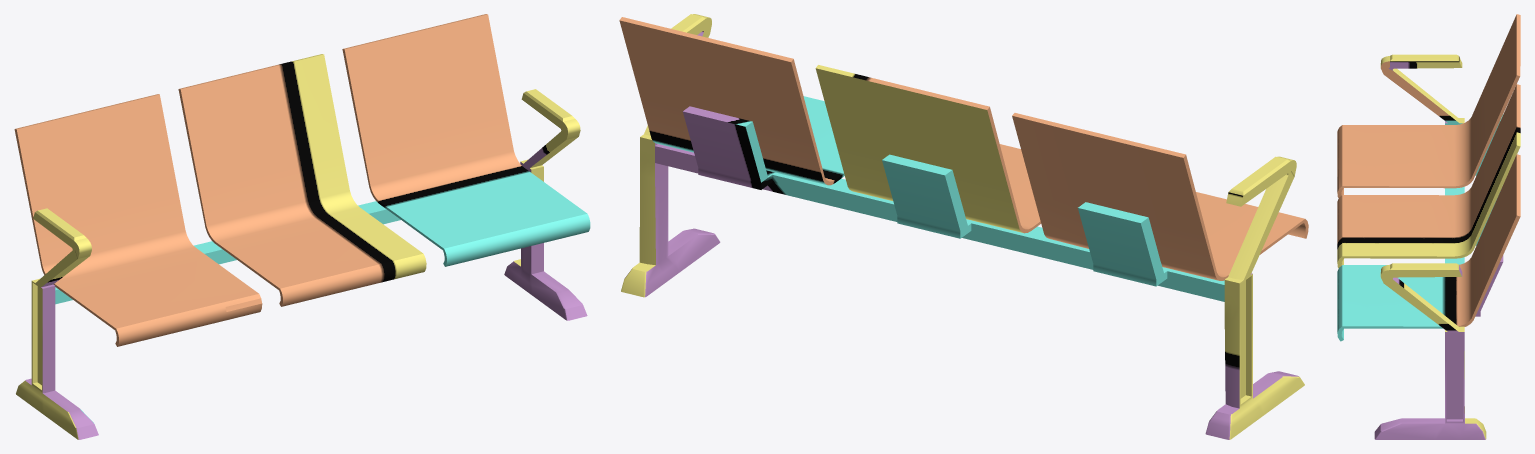
The model's file is PlatformSeat02.fbx.
The picture shows the model from 3 angles, left to right: view 1: azimuth 30°, elevation 25°; view 2: azimuth 150°, elevation 25°; view 3: azimuth 270°, elevation 25°; orthographic projection. The views are drawn at different scales.
Visible parts, largest first — view 1: PlatFormChairs_Chair; view 2: PlatFormChairs_Chair; view 3: PlatFormChairs_Chair.
Boxes of the visible parts, <box> form: PlatFormChairs_Chair: <box>14,14,590,439</box>; PlatFormChairs_Chair: <box>619,14,1308,439</box>; PlatFormChairs_Chair: <box>1337,14,1520,439</box>.
Bounding box in the file's own units: 226 × 105 × 80.4.
